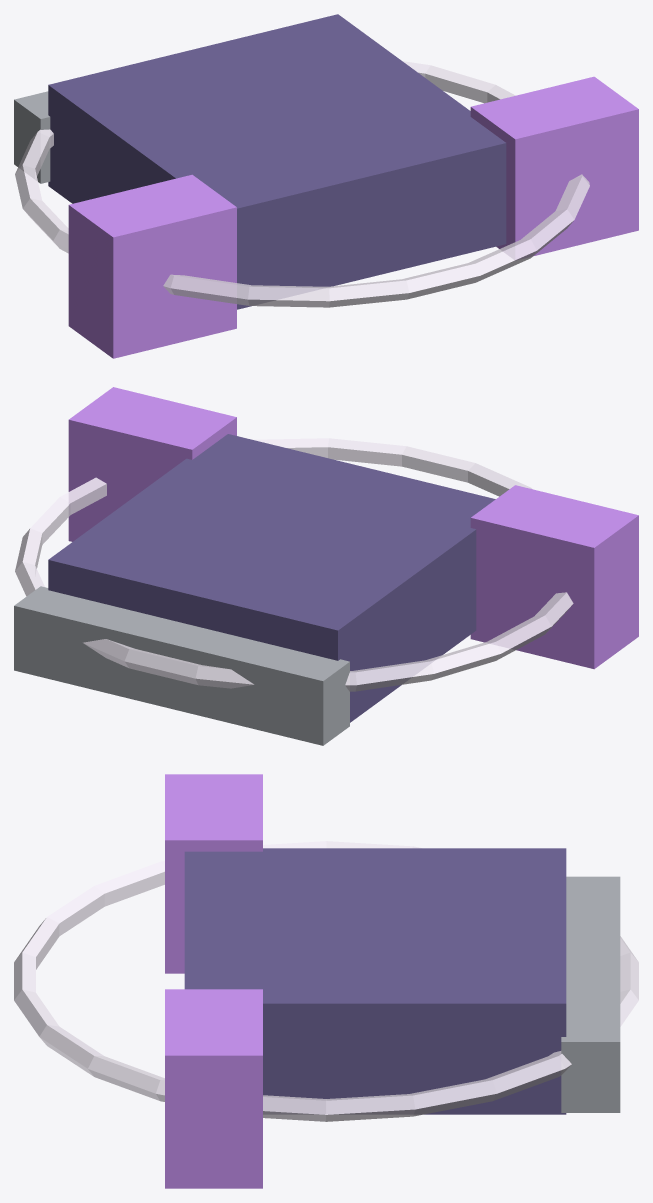
The model's file is 04_magic_armor_upgrade.glb.
The picture shows the model from 3 angles, top to bottom: view 1: azimuth 30°, elevation 25°; view 2: azimuth 150°, elevation 25°; view 3: azimuth 270°, elevation 25°; orthographic projection. The views are drawn at different scales.
Visible parts, largest first — view 1: chest_plate, pauldron_l, pauldron_r, warding_aura, waist_guard; view 2: chest_plate, waist_guard, pauldron_l, warding_aura, pauldron_r; view 3: chest_plate, pauldron_r, warding_aura, waist_guard, pauldron_l.
Part boxes in pixels (left/top/right/bottom): chest_plate: left=48, top=14, right=506, bottom=309; pauldron_l: left=68, top=174, right=236, bottom=358; pauldron_r: left=470, top=76, right=638, bottom=259; warding_aura: left=15, top=61, right=589, bottom=307; waist_guard: left=14, top=91, right=50, bottom=183; chest_plate: left=48, top=434, right=495, bottom=722; waist_guard: left=14, top=586, right=349, bottom=745; pauldron_l: left=470, top=485, right=638, bottom=669; warding_aura: left=15, top=438, right=573, bottom=691; pauldron_r: left=68, top=387, right=236, bottom=541; chest_plate: left=184, top=848, right=566, bottom=1114; pauldron_r: left=165, top=989, right=262, bottom=1188; warding_aura: left=14, top=841, right=638, bottom=1121; waist_guard: left=561, top=876, right=620, bottom=1112; pauldron_l: left=165, top=774, right=262, bottom=973.
Bounding box in the file's own units: 1.36 × 0.38 × 1.28.
